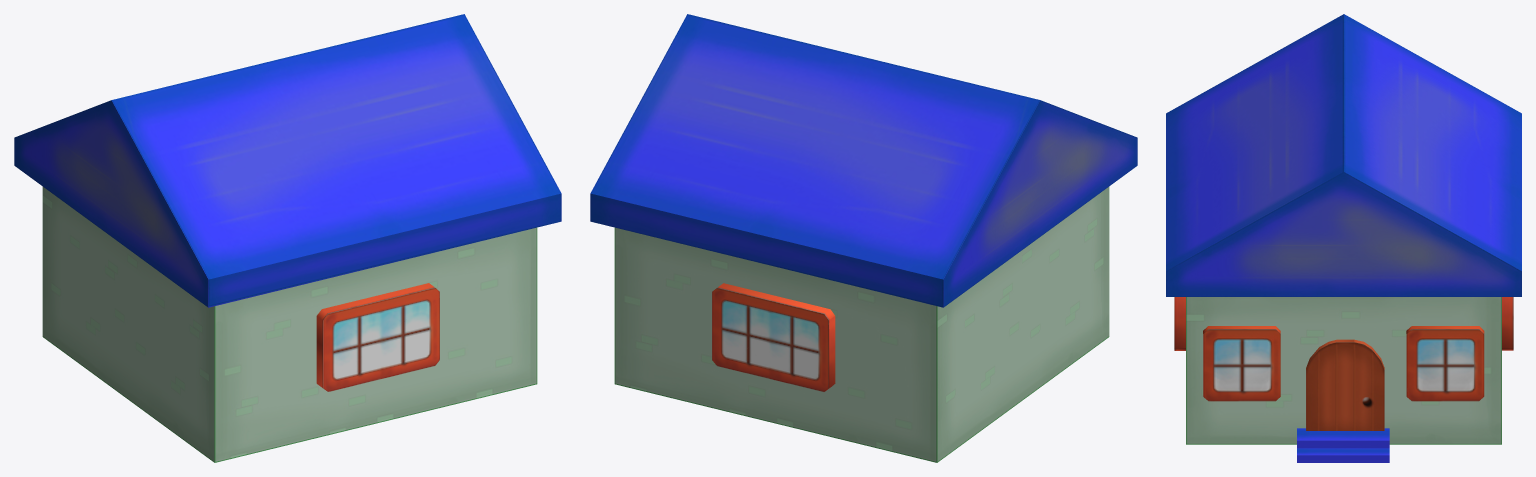
The model's file is House_6.fbx.
3 views of the same model, side by side, from view 1: azimuth 30°, elevation 25°; view 2: azimuth 150°, elevation 25°; view 3: azimuth 270°, elevation 25° (orthographic). The views are drawn at different scales.
Visible parts, largest first — view 1: House_6; view 2: House_6; view 3: House_6.
Boxes of the visible parts, x1,y1,x2,y2 form: House_6: (14,14,561,462); House_6: (590,14,1137,462); House_6: (1166,14,1521,462).
Size of the model in its own units: 7.58 by 5.76 by 6.66.
